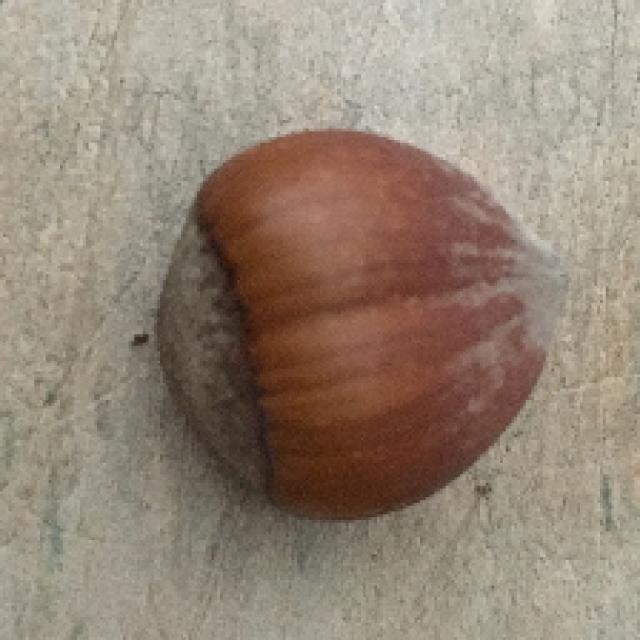qualityHazelnut: (154, 132, 579, 533)
